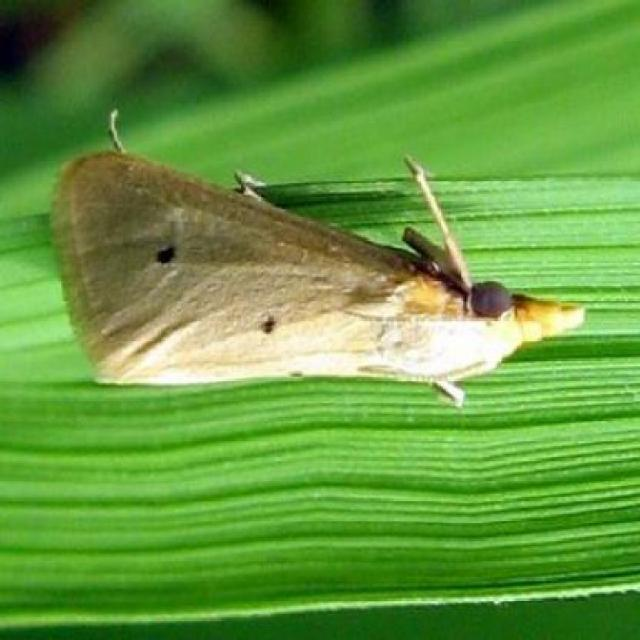stem-borer: (45, 106, 588, 412)
